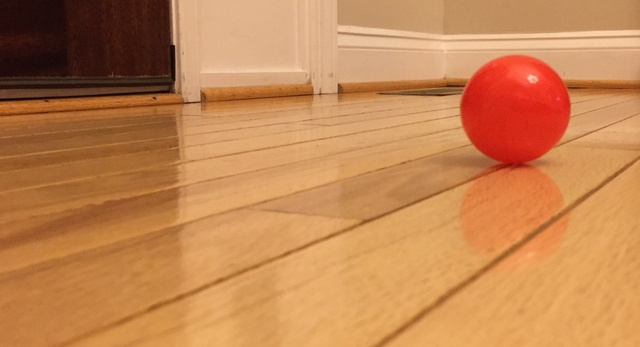Ball: (461, 54, 569, 164)
